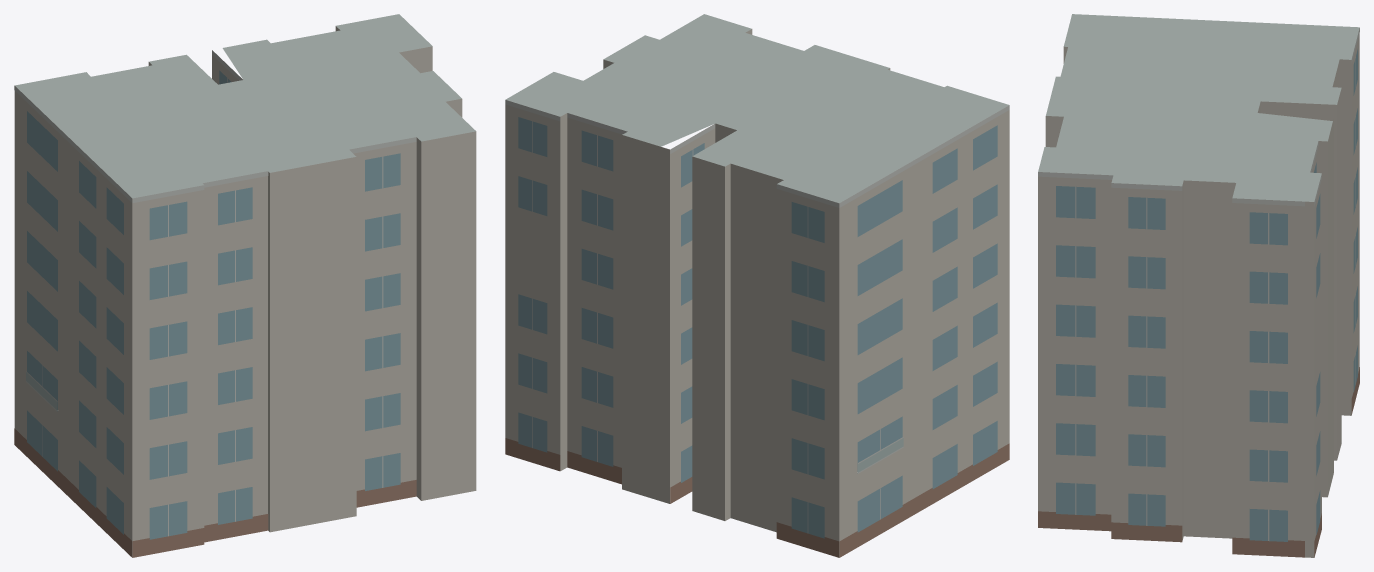
File: survey-upis-32566982.glb
3 renders of one model, left to right at view 1: azimuth 30°, elevation 25°; view 2: azimuth 150°, elevation 25°; view 3: azimuth 270°, elevation 25°, orthographic.
Parts seen in each view (by area): view 1: survey-upis-32566982.tmp; view 2: survey-upis-32566982.tmp; view 3: survey-upis-32566982.tmp.
Boxes of the visible parts, left/top/right/bottom form: survey-upis-32566982.tmp: left=14, top=14, right=476, bottom=557; survey-upis-32566982.tmp: left=505, top=14, right=1009, bottom=557; survey-upis-32566982.tmp: left=1038, top=14, right=1359, bottom=557.
Bounding box in the file's own units: 20.85 × 18.4 × 15.08.
